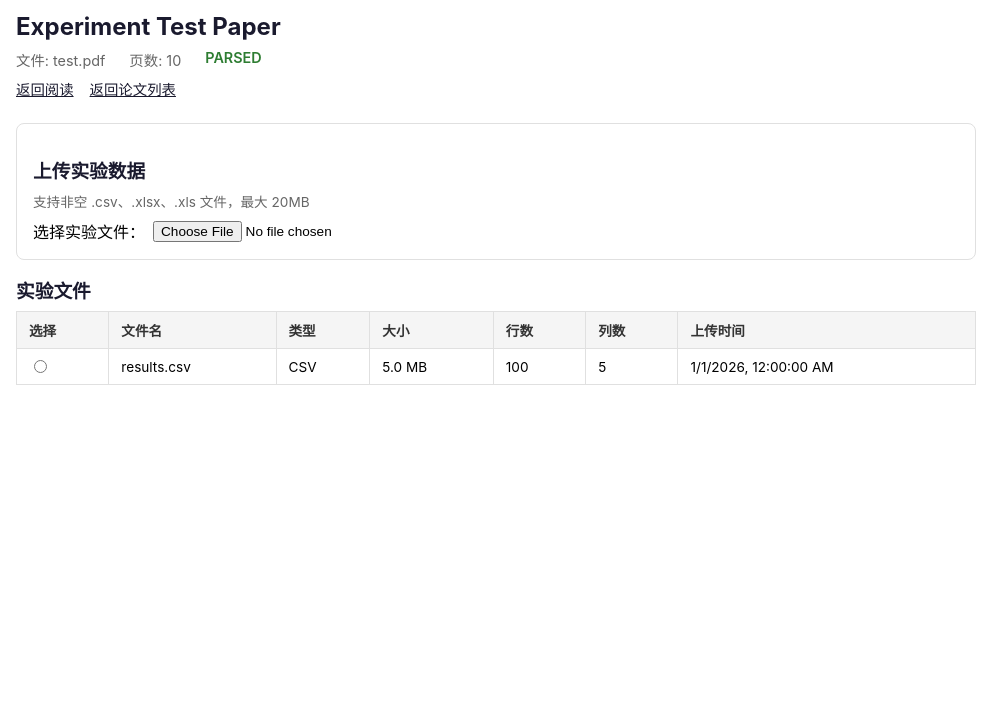
Scenario: ExperimentDataView › rejects a mismatched file-detail response
Click the row with class "file-row" at [496, 366], box [16,348,976,384]
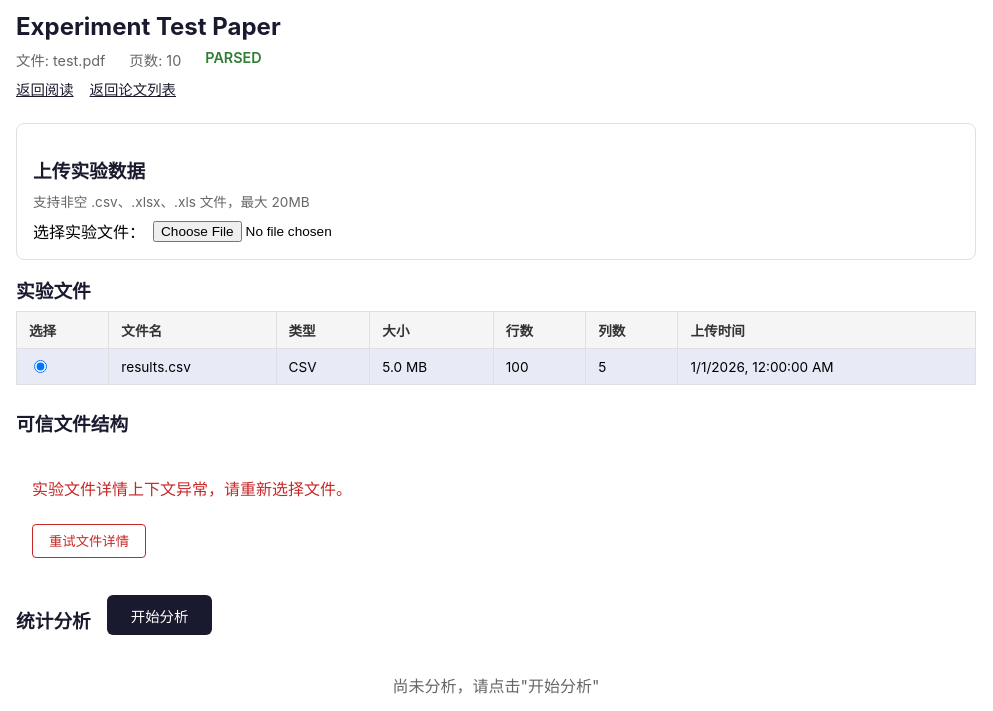
Check: the text "文件详情上下文异常" is shown, box [32,479,352,499]
